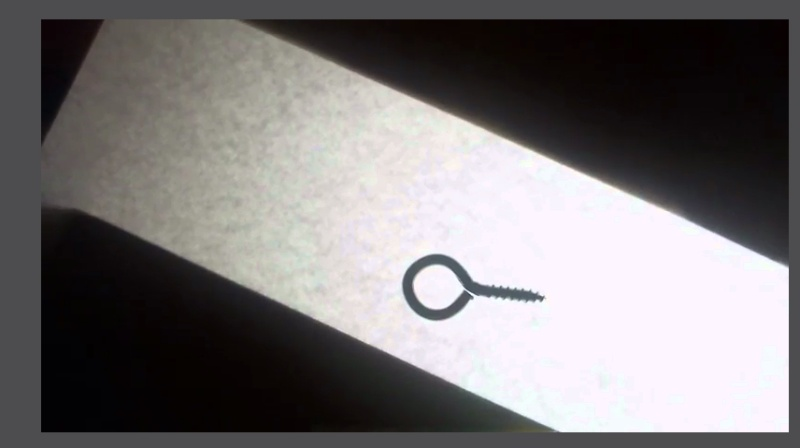O001: (395, 251, 551, 323)
